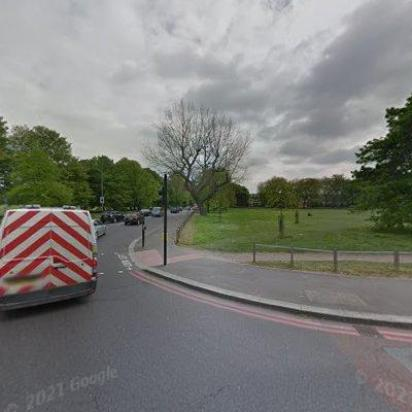moving-car: (100, 209, 122, 225), (123, 209, 144, 225), (150, 205, 162, 217), (138, 207, 152, 217), (168, 206, 180, 213)
moving-light-truck: (0, 206, 98, 318)
